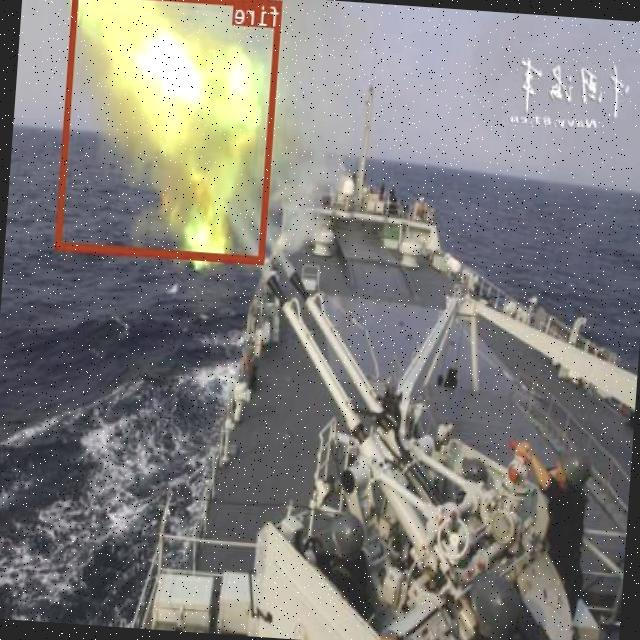fire: (56, 0, 283, 263)
